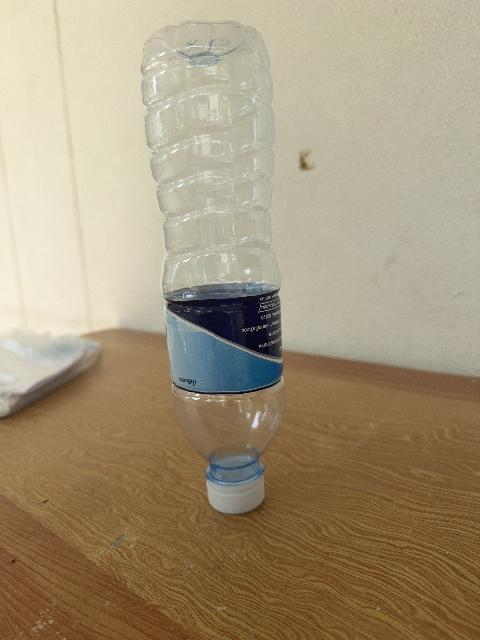bottle: (142, 22, 284, 513)
